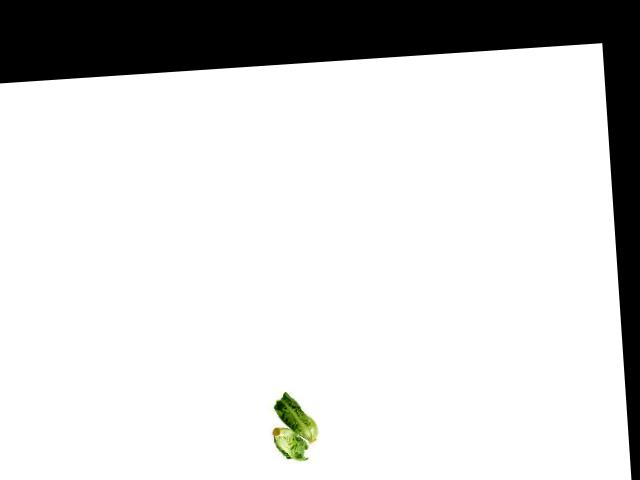lettuce: (266, 423, 310, 464)
